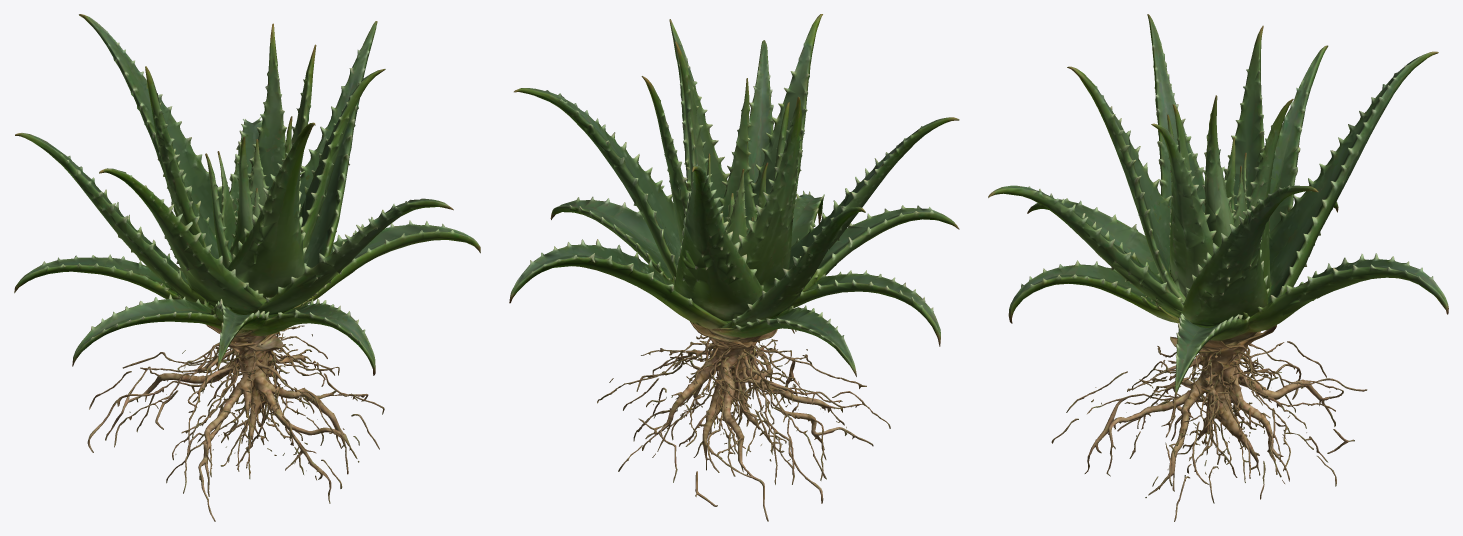
Rendered from sabila.glb.
3 views of the same model, side by side, from view 1: azimuth 30°, elevation 25°; view 2: azimuth 150°, elevation 25°; view 3: azimuth 270°, elevation 25° (orthographic).
Visible parts, largest first — view 1: geometry_0; view 2: geometry_0; view 3: geometry_0.
Boxes of the visible parts, bbox=[...] form: geometry_0: bbox=[14, 14, 480, 521]; geometry_0: bbox=[509, 14, 959, 521]; geometry_0: bbox=[988, 14, 1448, 521].
Bounding box in the file's own units: 0.9994 × 0.9847 × 0.9873.
1 material, 1 textured.
